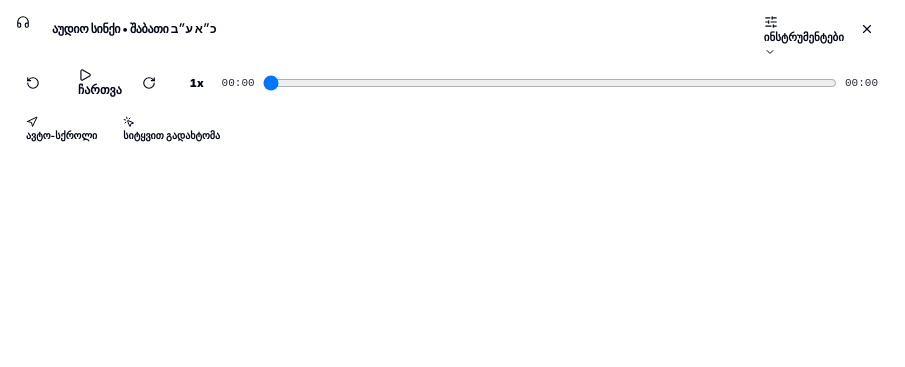
DafAudioSyncPanel › shows clear Georgian not-found message when pressing Play without available daf audio
Step 1. Click the button with aria-label "დაკვრა" → (100, 83), box [64, 67, 136, 99]
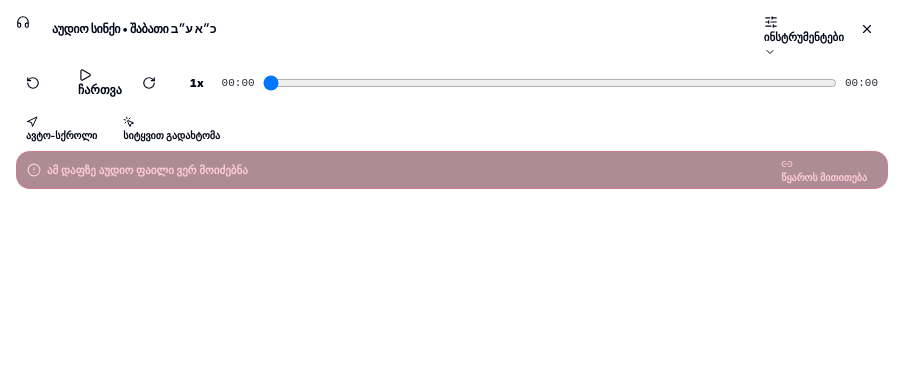
Check: the message shows "ამ დაფზე აუდიო ფაილი ვერ მოიძებნა", box [47, 163, 248, 177]
// Quick link opens the tools drawer for configuring audio source URL
Step 2. Click the button "წყაროს მითითება" → (824, 170), box [771, 158, 877, 182]
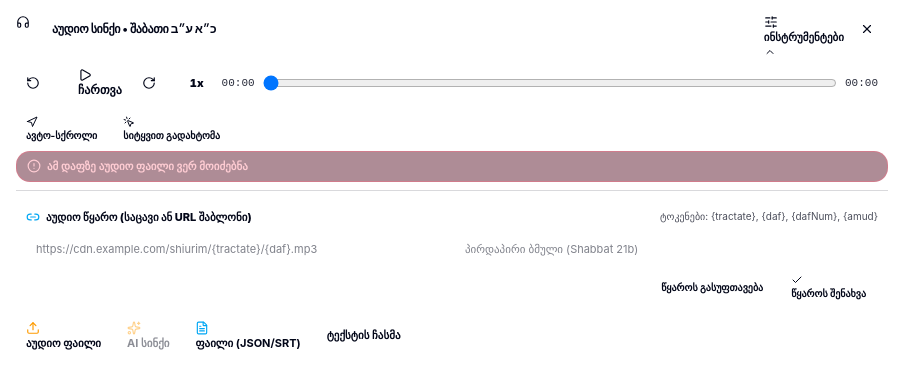
Check: the element with test id "audio-sync-tools-drawer" is shown, box [16, 190, 888, 349]
